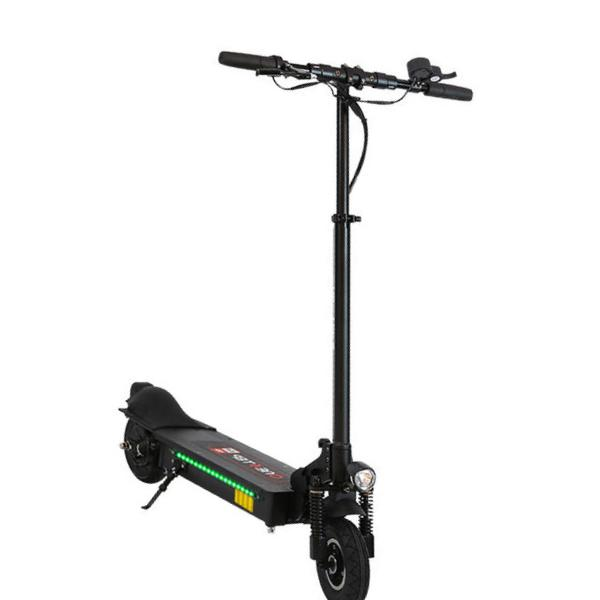scooter: (117, 50, 473, 600)
